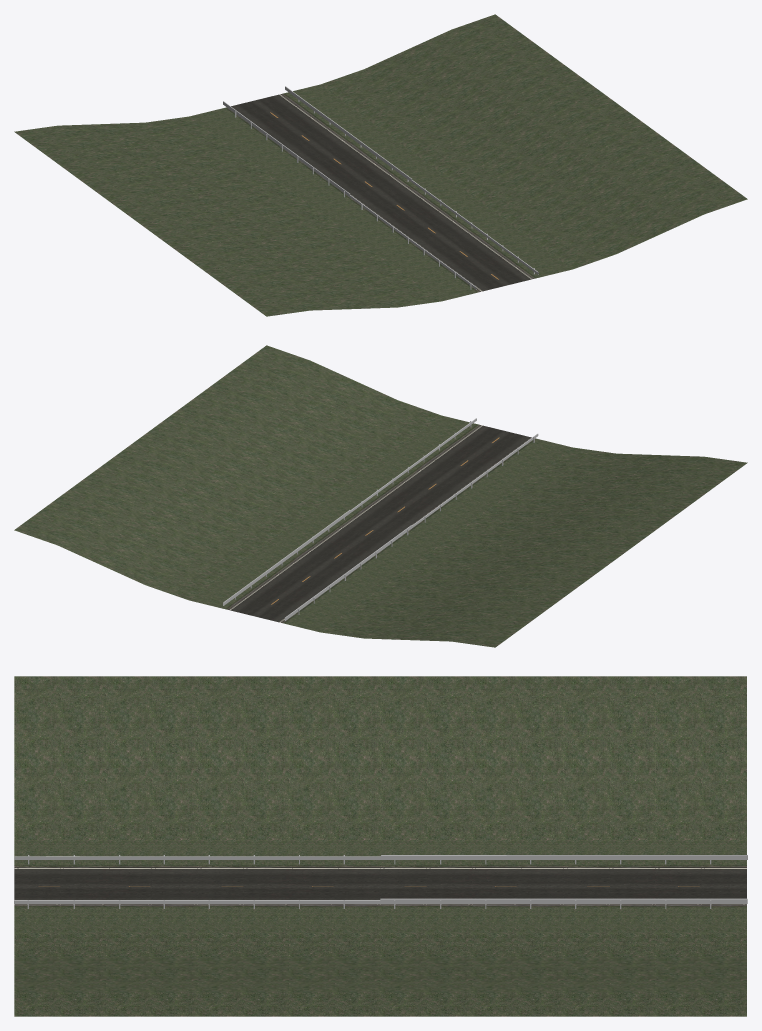
3 renders of one model, top to bottom at view 1: azimuth 30°, elevation 25°; view 2: azimuth 150°, elevation 25°; view 3: azimuth 270°, elevation 25°, orthographic. The views are drawn at different scales.
Parts seen in each view (by area): view 1: Grass, HighWay, GuardRail; view 2: Grass, HighWay, GuardRail; view 3: Grass, HighWay, GuardRail.
Part boxes in pixels (<box>): Grass: <box>14,14,747,316</box>; HighWay: <box>225,93,536,292</box>; GuardRail: <box>223,86,538,289</box>; Grass: <box>14,345,747,647</box>; HighWay: <box>225,424,536,623</box>; GuardRail: <box>223,418,538,620</box>; Grass: <box>14,676,746,1016</box>; HighWay: <box>14,865,746,907</box>; GuardRail: <box>14,855,747,908</box>.
Size of what is drawn, in the model's own units: 110 by 6.05 by 100.
